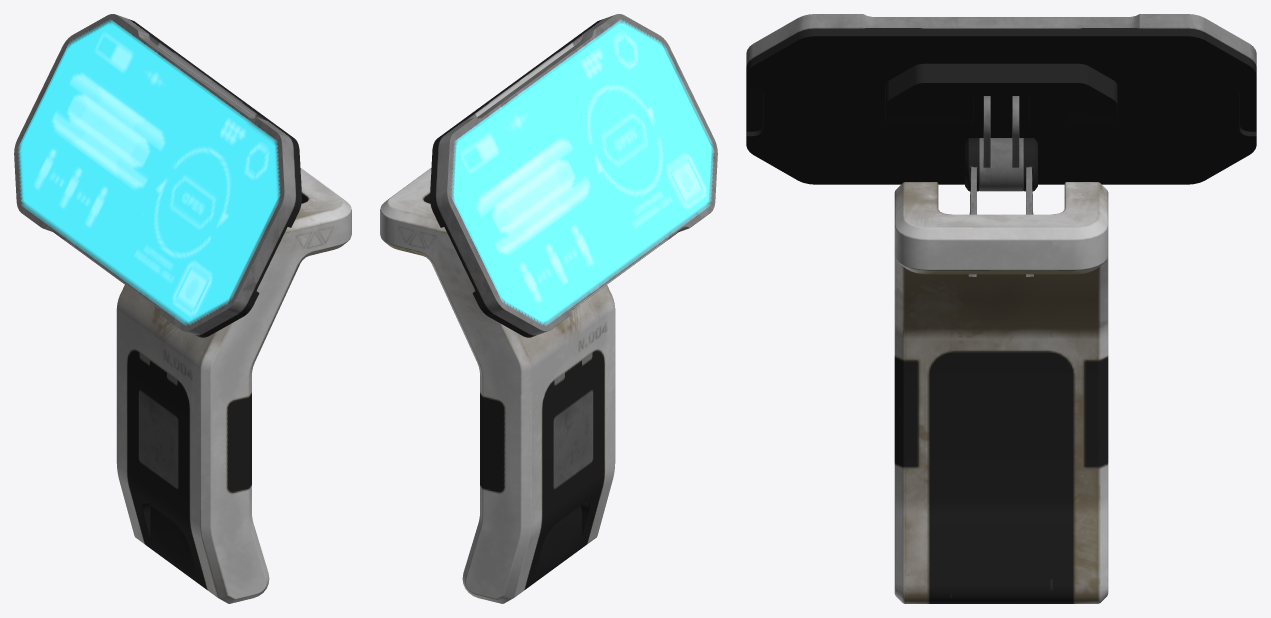
The picture shows the model from 3 angles, left to right: view 1: azimuth 30°, elevation 25°; view 2: azimuth 150°, elevation 25°; view 3: azimuth 270°, elevation 25°; orthographic projection. The views are drawn at different scales.
Parts seen in each view (by area): view 1: screen_low, front_piece_low; view 2: screen_low, front_piece_low; view 3: front_piece_low, screen_low, hinge_bottom_low.
Boxes of the visible parts, left/top/right/bottom form: screen_low: left=14, top=14, right=301, bottom=337; front_piece_low: left=116, top=167, right=351, bottom=603; screen_low: left=430, top=14, right=717, bottom=337; front_piece_low: left=380, top=167, right=615, bottom=603; front_piece_low: left=894, top=182, right=1108, bottom=603; screen_low: left=746, top=14, right=1256, bottom=191; hinge_bottom_low: left=965, top=138, right=1037, bottom=276.
Size of the model in its own units: 2.56 by 5.63 by 4.49.
Materials: 1 (1 with a texture image).
